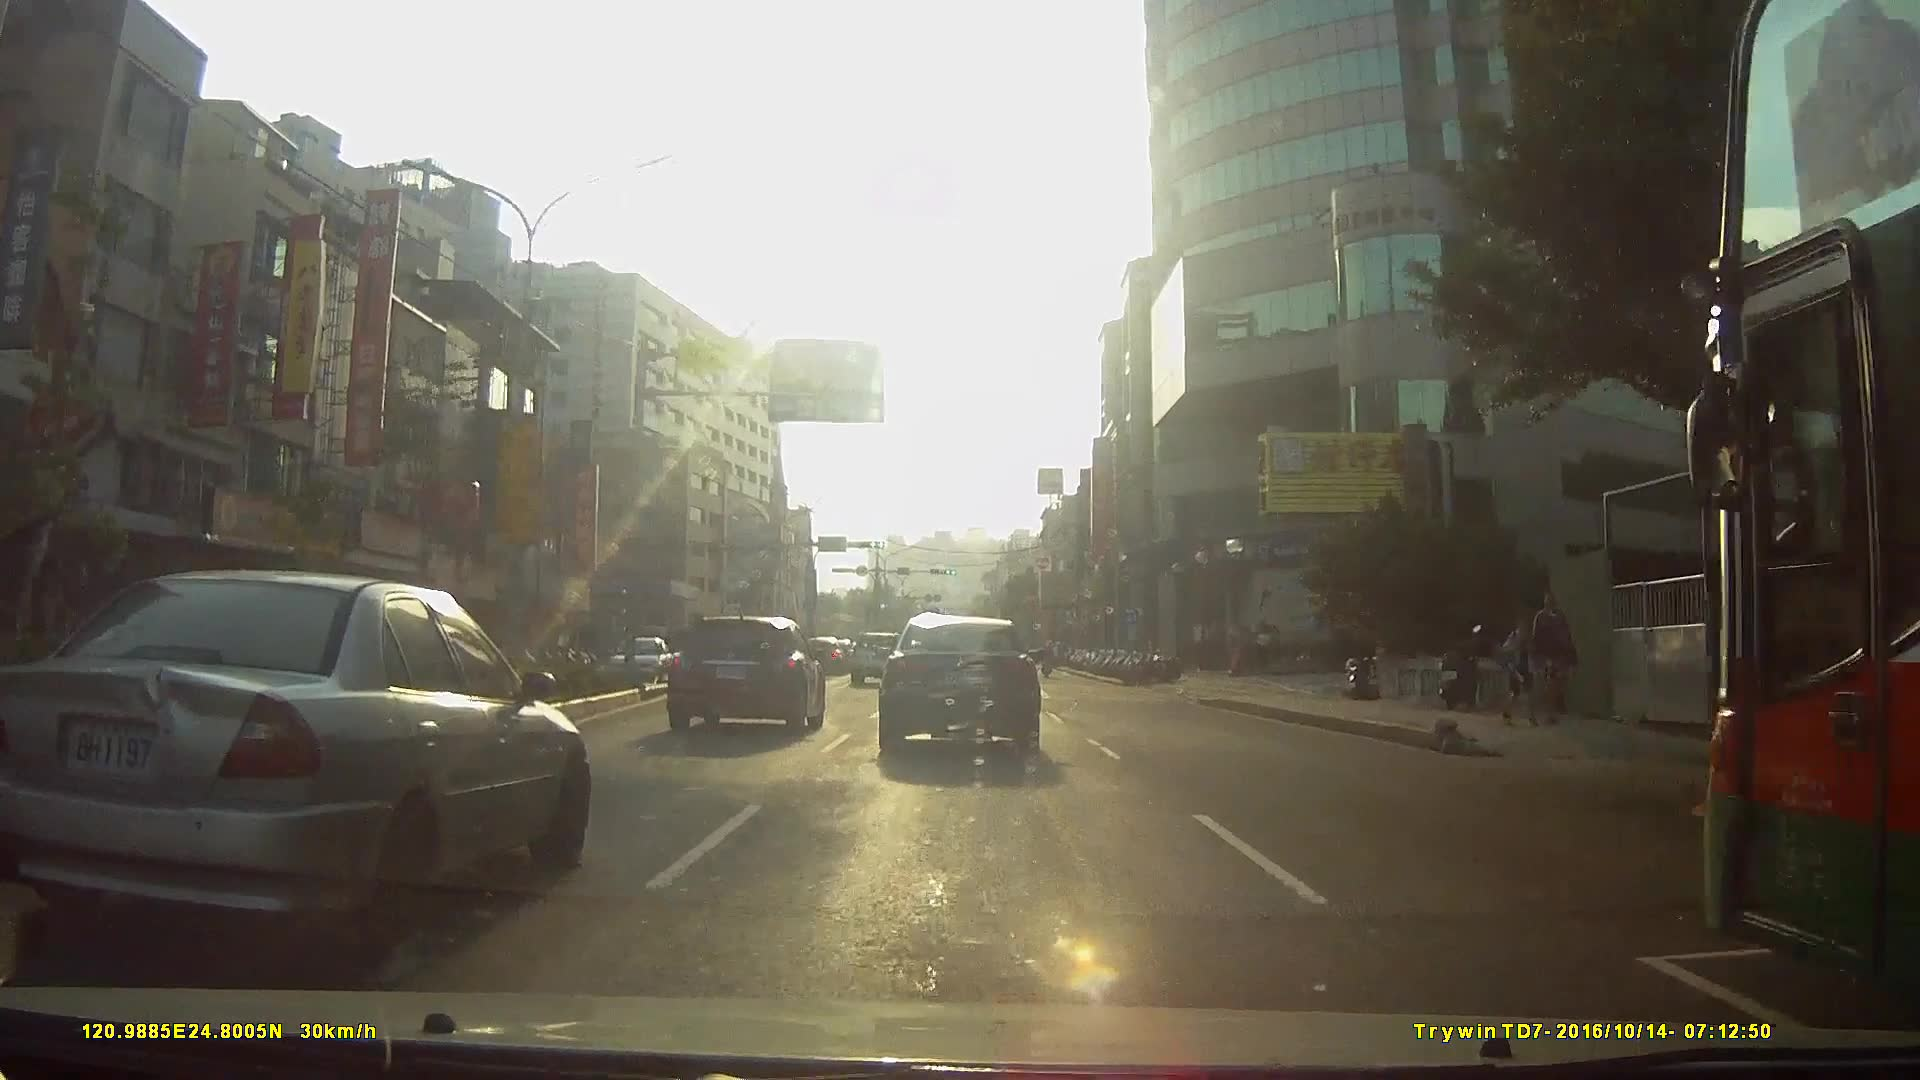pedestrian: (1522, 588, 1576, 725), (1496, 609, 1548, 726)
vehicle: (1578, 1, 1920, 991), (0, 566, 590, 954), (873, 612, 1040, 758), (664, 614, 826, 736), (608, 633, 672, 686), (845, 628, 905, 683)
